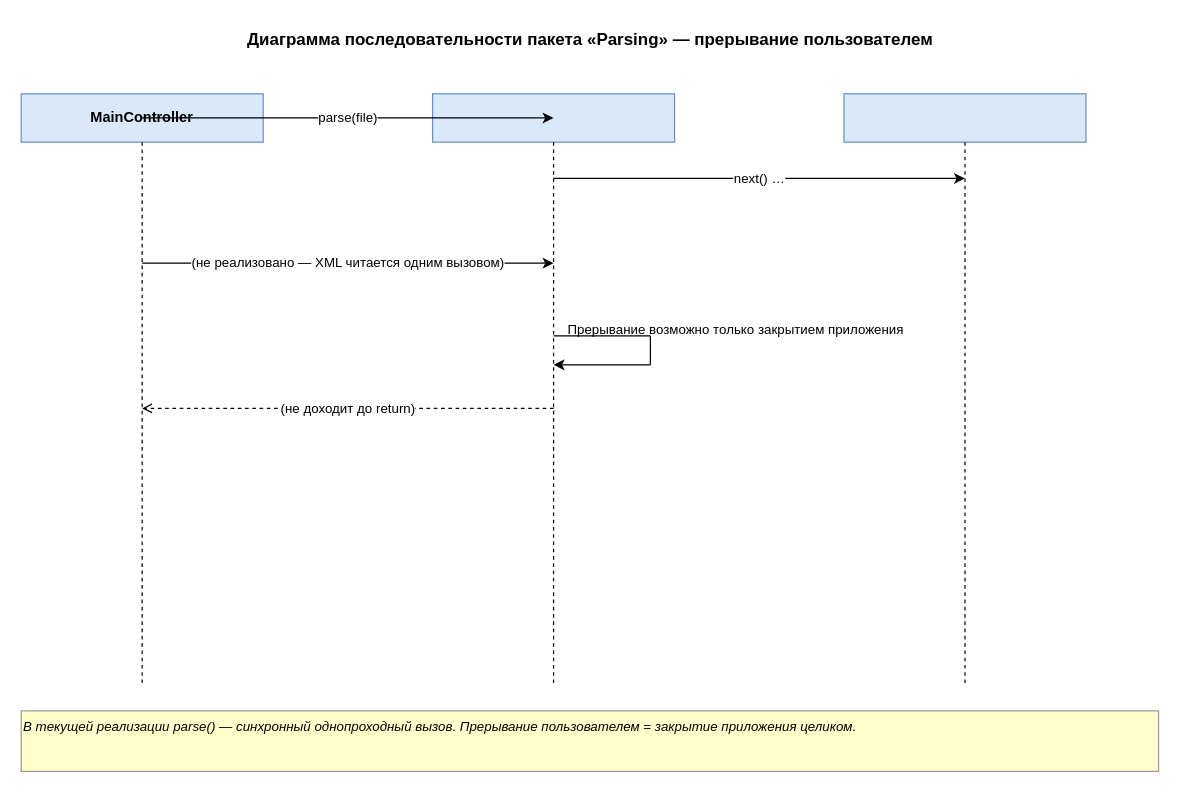
Some shapes in this 1180 by 793 pixel diagram are drawn without their labels. Here are the shapes that lost their labels. From the top down, the centre of each, then its label:
At [553,117]: "XmlModelParser".
At [964,117]: "XMLStreamReader".
